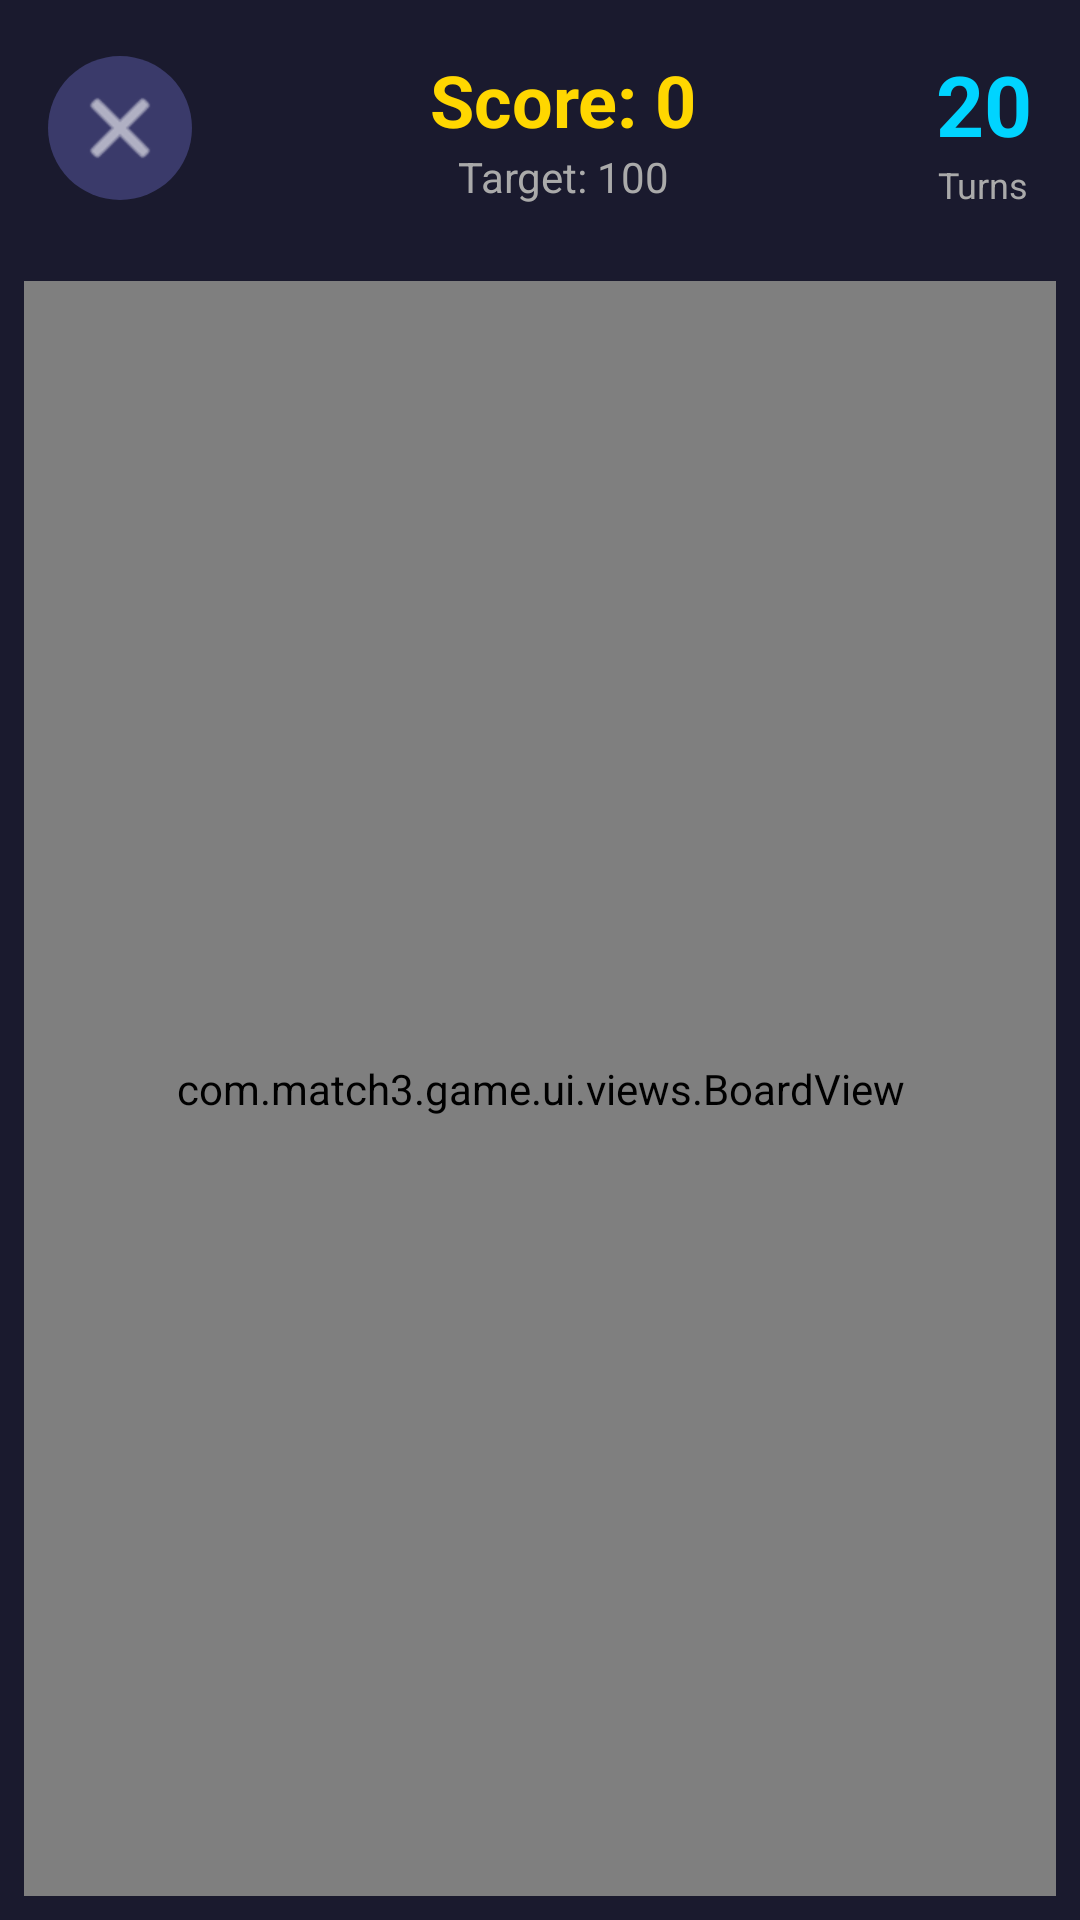

Screen size 1080w x 1920h. Icon name, then its box in pixels as box(x1, y1, x2, y2):
Back: box(48, 56, 192, 200)
